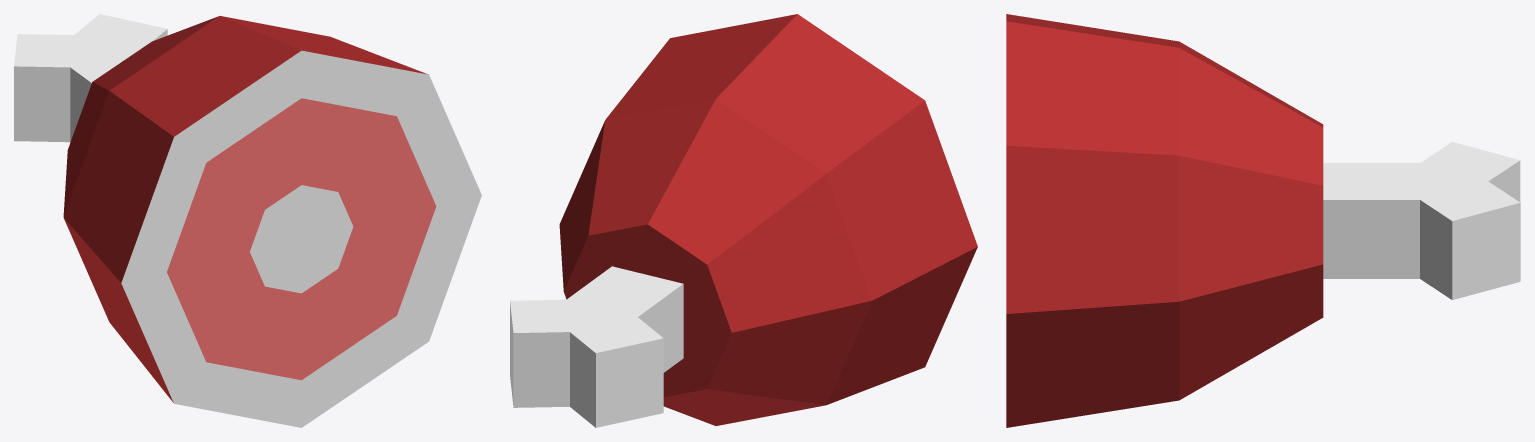
The model's file is meat.fbx.
3 views of the same model, side by side, from view 1: azimuth 30°, elevation 25°; view 2: azimuth 150°, elevation 25°; view 3: azimuth 270°, elevation 25° (orthographic). The views are drawn at different scales.
Visible parts, largest first — view 1: meat; view 2: meat; view 3: meat.
Boxes of the visible parts, x1,y1,x2,y2 form: meat: (14, 14, 481, 427); meat: (510, 14, 977, 427); meat: (1006, 14, 1520, 427).
Size of the model in its own units: 49.79 by 49.79 by 58.09.
